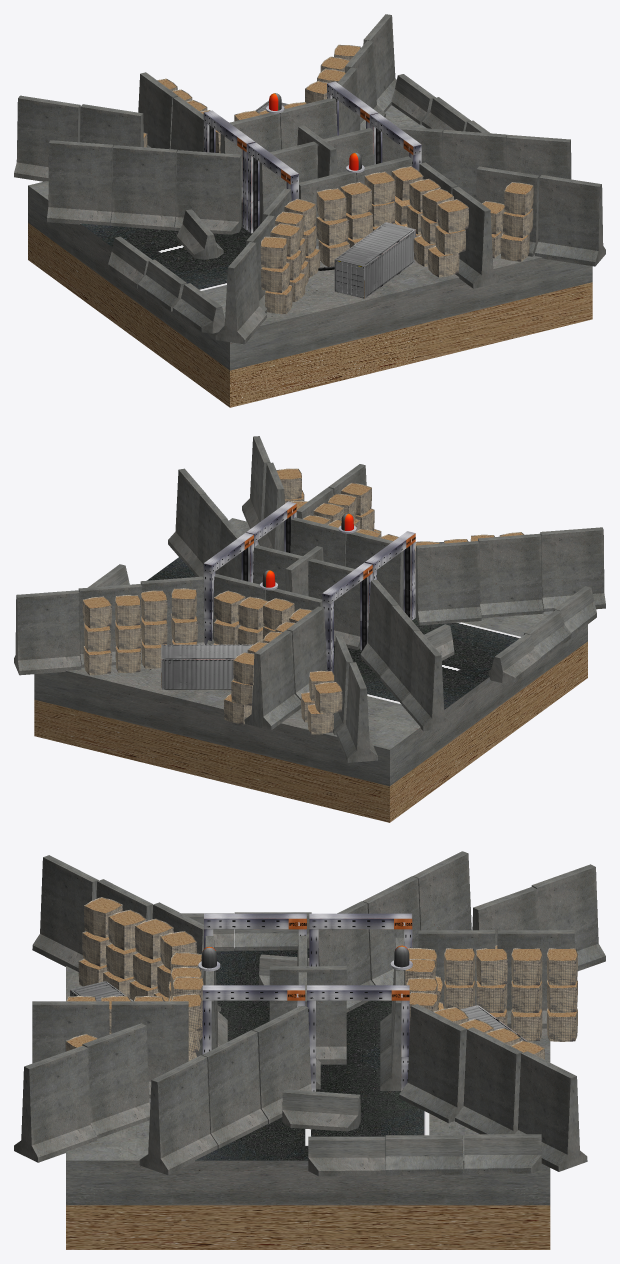
The model's file is BrehmerWall.dae.
3 renders of one model, top to bottom at view 1: azimuth 30°, elevation 25°; view 2: azimuth 150°, elevation 25°; view 3: azimuth 270°, elevation 25°, orthographic. The views are drawn at different scales.
Visible parts, largest first — view 1: Box002, Line018, Line040, Line039, Line038, Box005, Line037, Line035, Line020, Line022, Line021, Line036 (+44 smaller); view 2: Box002, Line015, Line033, Line034, Line035, Line045, Box004, Line040, Line006, Line037, Line046, Line039 (+45 smaller); view 3: Box002, Line018, Line021, Line017, Line013, Line015, Line014, Line020, Line035, Line019, Line037, Line016 (+47 smaller).
Boxes of the visible parts, x1=… form: Box002: x1=28, y1=105, x2=592, y2=407; Line018: x1=535, y1=175, x2=605, y2=266; Line040: x1=47, y1=140, x2=113, y2=225; Line039: x1=110, y1=145, x2=177, y2=230; Line038: x1=174, y1=150, x2=241, y2=234; Box005: x1=334, y1=222, x2=415, y2=298; Line037: x1=14, y1=95, x2=80, y2=181; Line035: x1=215, y1=242, x2=266, y2=344; Line020: x1=442, y1=130, x2=507, y2=198; Line022: x1=452, y1=186, x2=500, y2=288; Line021: x1=506, y1=135, x2=571, y2=179; Line036: x1=80, y1=104, x2=143, y2=147; Box002: x1=34, y1=518, x2=587, y2=822; Line015: x1=14, y1=590, x2=81, y2=675; Line033: x1=415, y1=541, x2=481, y2=625; Line034: x1=478, y1=533, x2=543, y2=618; Line035: x1=540, y1=527, x2=605, y2=611; Line045: x1=244, y1=630, x2=301, y2=730; Box004: x1=161, y1=644, x2=252, y2=689; Line040: x1=401, y1=630, x2=451, y2=731; Line006: x1=308, y1=558, x2=360, y2=649; Line037: x1=336, y1=662, x2=377, y2=762; Line046: x1=287, y1=606, x2=327, y2=700; Line039: x1=380, y1=605, x2=419, y2=703; Box002: x1=66, y1=948, x2=550, y2=1249; Line018: x1=14, y1=1045, x2=96, y2=1162; Line021: x1=139, y1=1055, x2=217, y2=1175; Line017: x1=82, y1=1023, x2=150, y2=1138; Line013: x1=399, y1=1004, x2=466, y2=1123; Line015: x1=515, y1=1051, x2=587, y2=1171; Line014: x1=455, y1=1027, x2=522, y2=1134; Line020: x1=202, y1=1030, x2=267, y2=1148; Line035: x1=32, y1=855, x2=98, y2=971; Line019: x1=252, y1=1006, x2=311, y2=1123; Line037: x1=531, y1=864, x2=605, y2=971; Line016: x1=111, y1=1001, x2=188, y2=1098.
Size of the model in its own units: 759 by 294 by 789.
